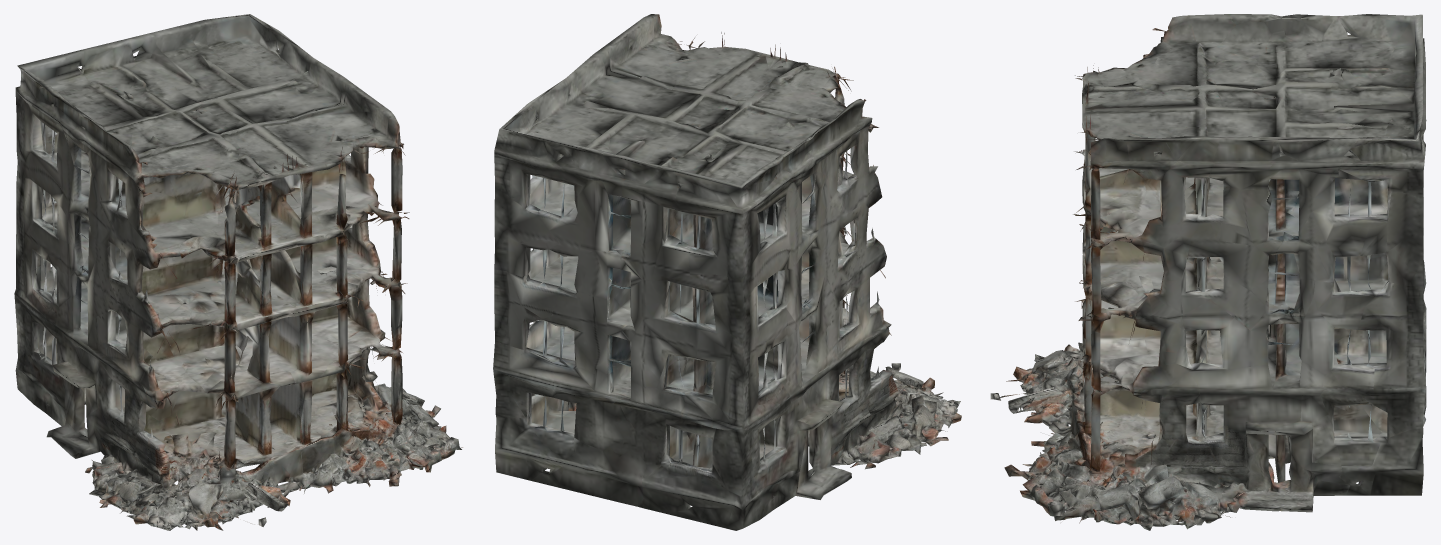
Rendered from ruin_block.glb.
3 renders of one model, left to right at view 1: azimuth 30°, elevation 25°; view 2: azimuth 150°, elevation 25°; view 3: azimuth 270°, elevation 25°, orthographic. The views are drawn at different scales.
Parts seen in each view (by area): view 1: ruin_block; view 2: ruin_block; view 3: ruin_block.
Part boxes in pixels (x1,y1,x2,y2): ruin_block: (14,14,462,530); ruin_block: (493,14,961,530); ruin_block: (990,14,1426,530).
Bounding box in the file's own units: 1.89 × 1.69 × 1.84.
Materials: 1 (1 with a texture image).
